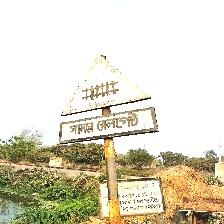Rail-crossing: (60, 56, 157, 143)
